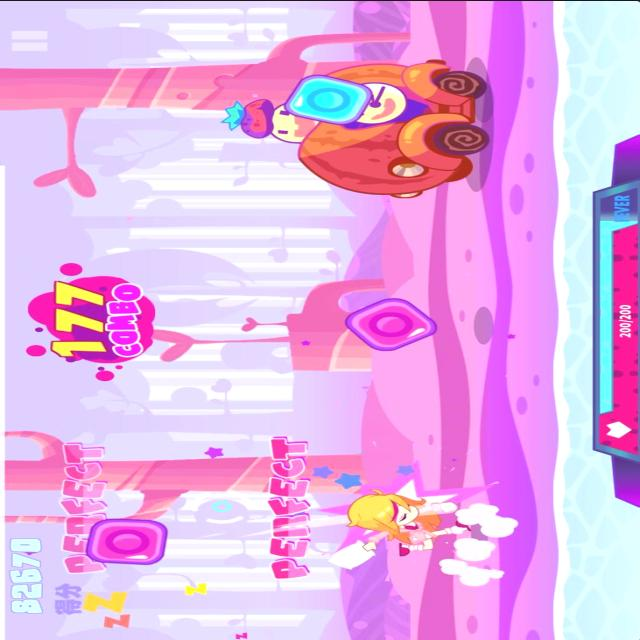cheboss: (218, 54, 492, 202)
kuai: (339, 293, 438, 353), (280, 72, 372, 126), (81, 515, 176, 567)
